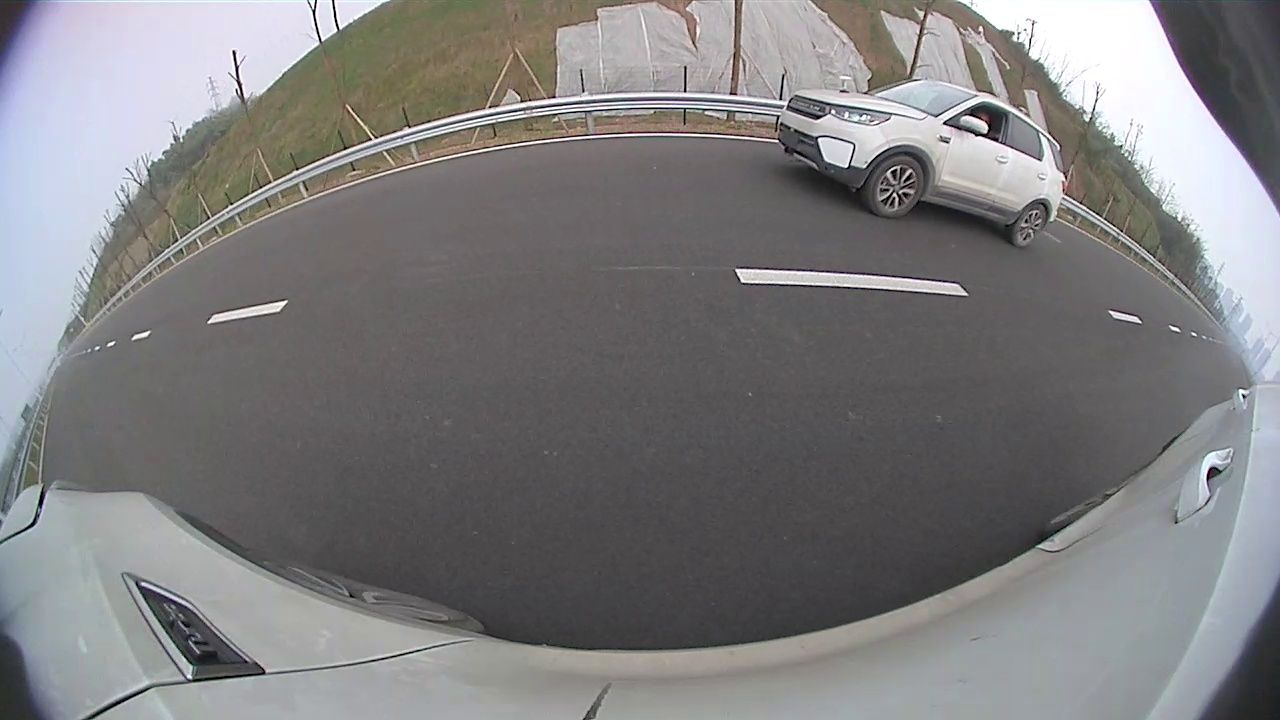car: (777, 79, 1066, 247)
front: (869, 154, 925, 219)
rear: (1013, 203, 1047, 246)
